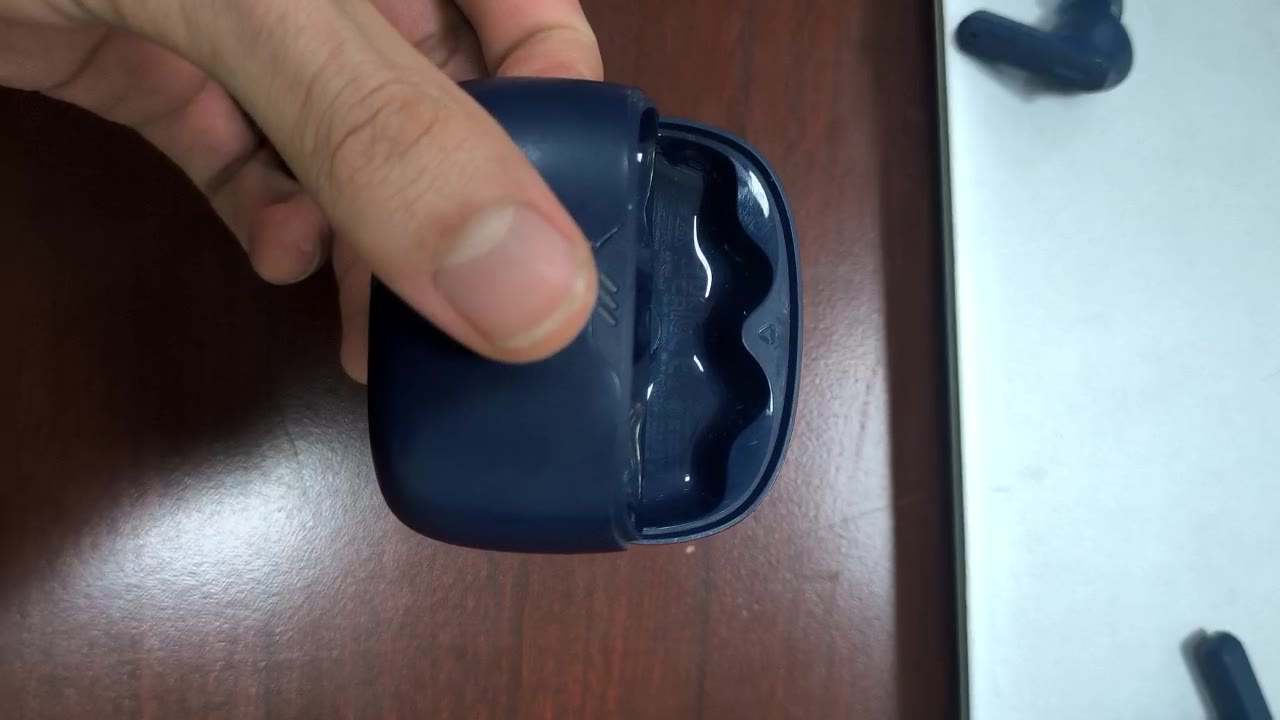Case: (373, 66, 805, 552)
Earbud: (955, 0, 1132, 91)
